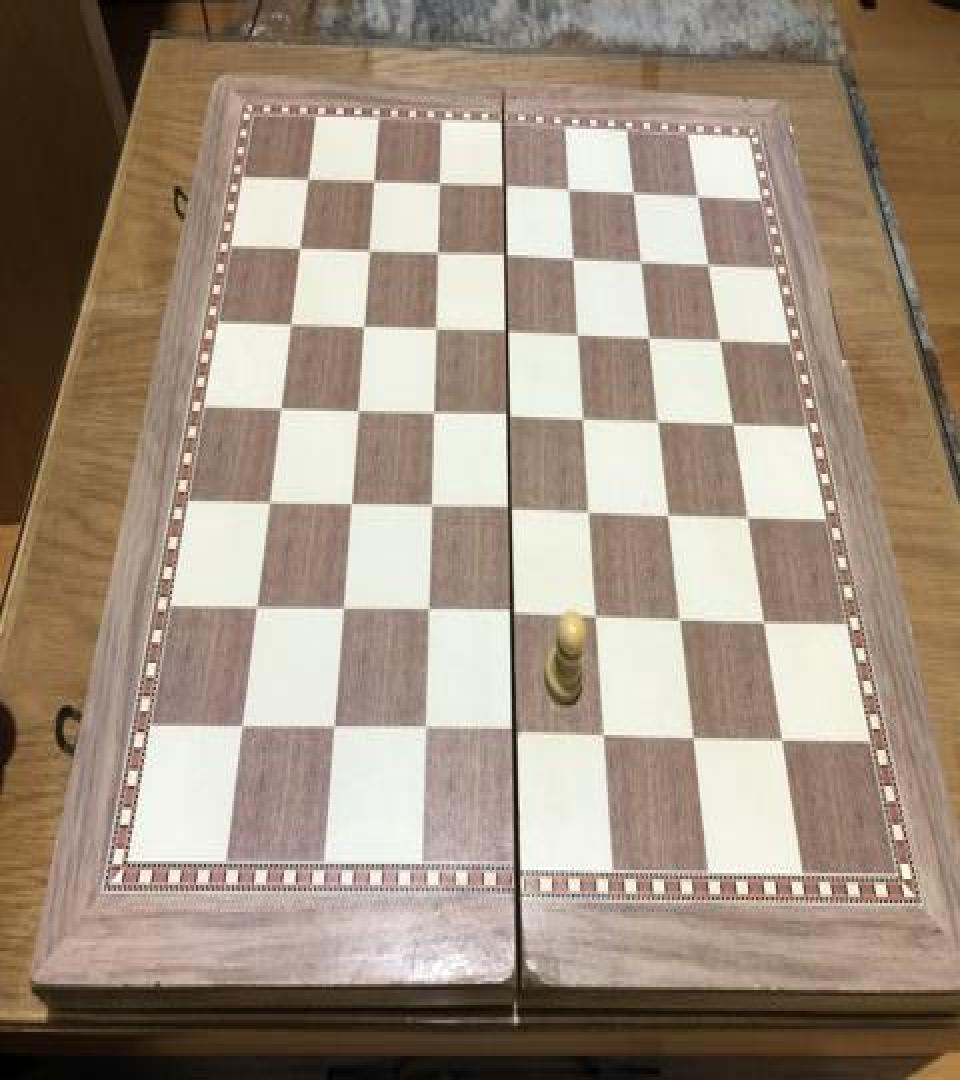xcorner: (330, 595, 354, 632), (504, 718, 528, 755), (230, 712, 254, 749), (688, 180, 712, 216), (623, 177, 647, 213), (558, 174, 582, 210), (493, 171, 517, 207), (428, 168, 452, 204), (362, 165, 386, 201), (296, 162, 320, 198), (699, 249, 723, 285), (631, 246, 655, 282), (563, 243, 587, 279), (495, 240, 519, 276), (426, 237, 450, 273), (357, 234, 381, 270), (287, 231, 311, 267), (710, 326, 734, 362), (639, 322, 663, 358), (568, 320, 592, 356), (496, 316, 520, 352), (424, 314, 448, 350), (351, 310, 375, 346), (278, 308, 302, 344), (723, 410, 747, 446), (649, 406, 673, 442), (573, 404, 597, 440), (498, 400, 522, 436), (422, 399, 446, 435), (345, 396, 369, 432), (268, 393, 292, 429), (738, 502, 762, 538), (659, 501, 683, 537), (580, 498, 604, 534), (500, 495, 524, 531), (419, 492, 443, 528), (338, 490, 362, 526), (257, 488, 281, 524), (754, 608, 778, 644), (671, 606, 695, 642), (586, 603, 610, 639), (502, 600, 526, 636), (416, 598, 440, 634), (244, 592, 268, 628), (773, 726, 797, 762), (684, 723, 708, 759), (594, 722, 618, 758), (413, 717, 437, 753), (322, 714, 346, 750)
